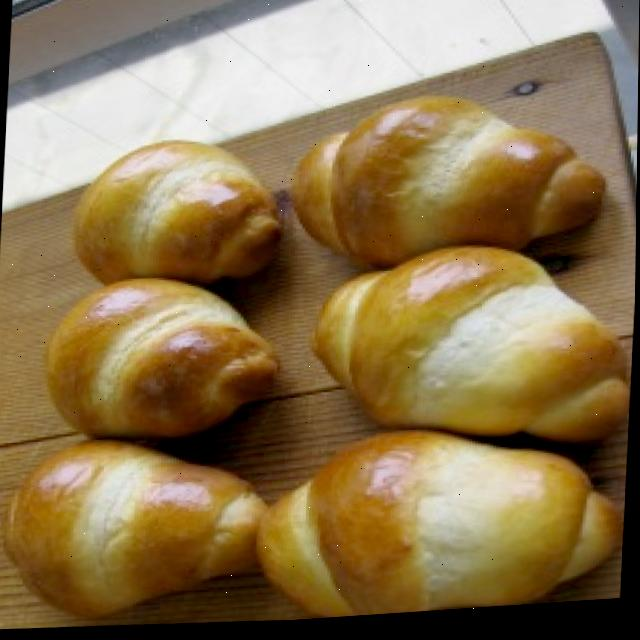面包点心: (0, 169, 626, 640)
